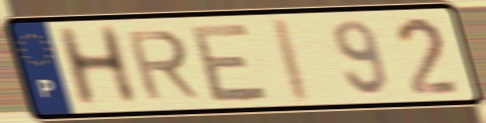2: (392, 14, 464, 98)
9: (331, 18, 391, 98)
E: (188, 20, 273, 105)
H: (51, 23, 144, 111)
I: (271, 15, 316, 106)
R: (122, 27, 204, 103)
